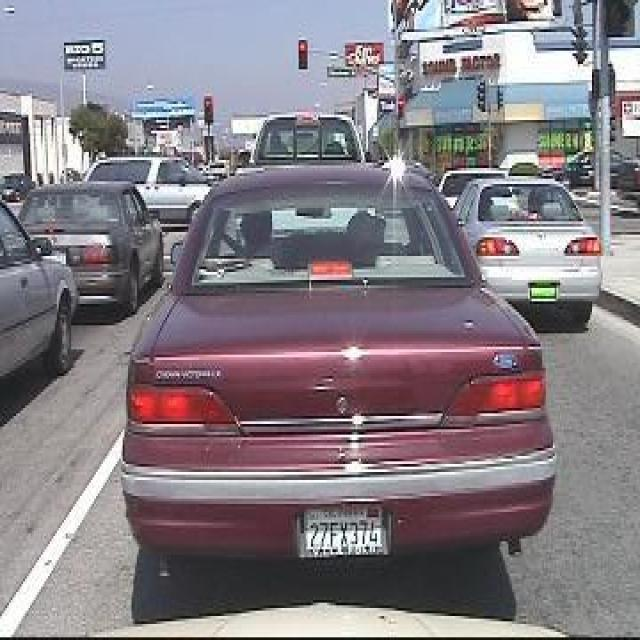car_back: (102, 164, 563, 582), (455, 134, 612, 342), (11, 167, 173, 320)
